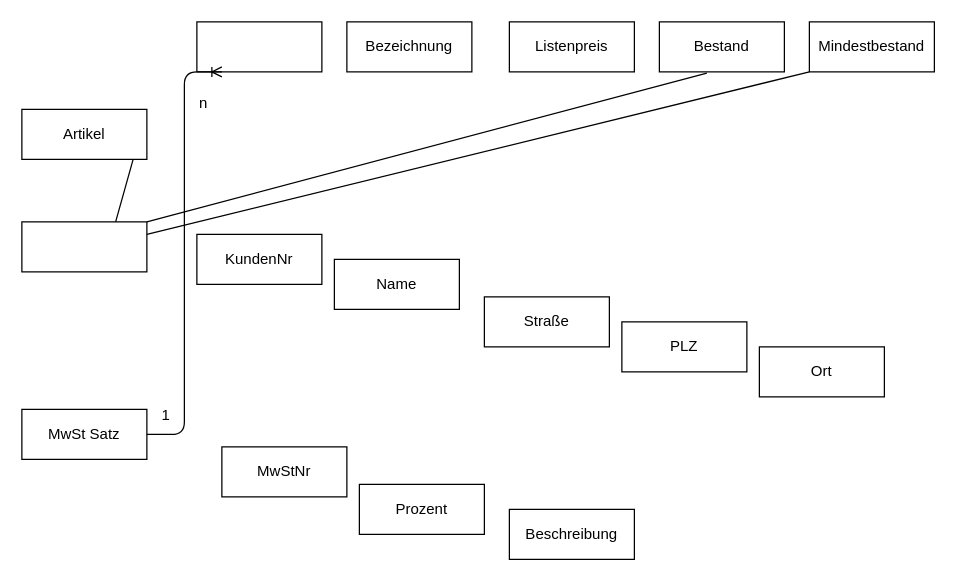
Some shapes in this 956 by 581 pixel diagram are drawn without their labels. Each missing label, with the centre of its shape:
ArtikelNr.: point (259, 46)
Kunde: point (84, 246)
